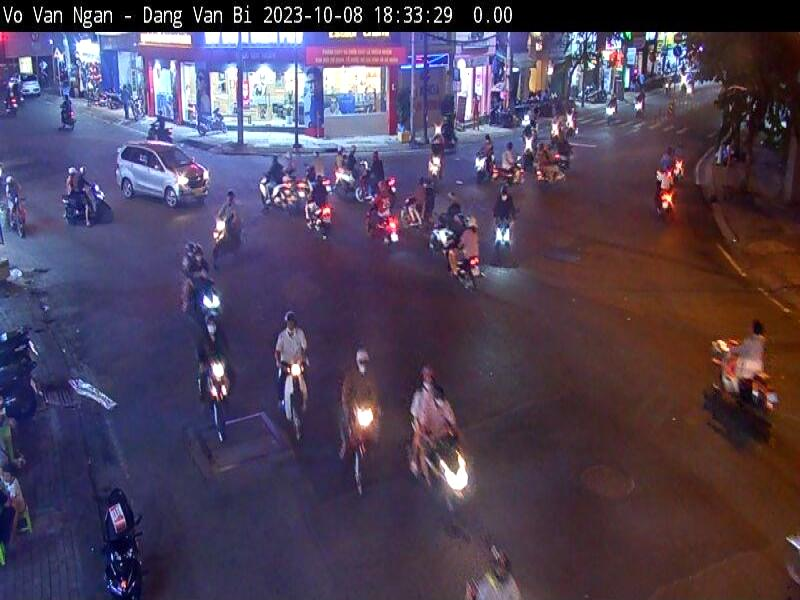car: (114, 138, 213, 211)
motorcycle: (405, 427, 476, 534), (101, 486, 144, 596), (344, 398, 382, 500), (274, 353, 314, 445), (200, 356, 234, 448), (444, 237, 484, 299), (61, 184, 117, 226), (211, 214, 248, 269), (195, 282, 224, 348), (492, 214, 516, 265), (6, 197, 32, 244)
